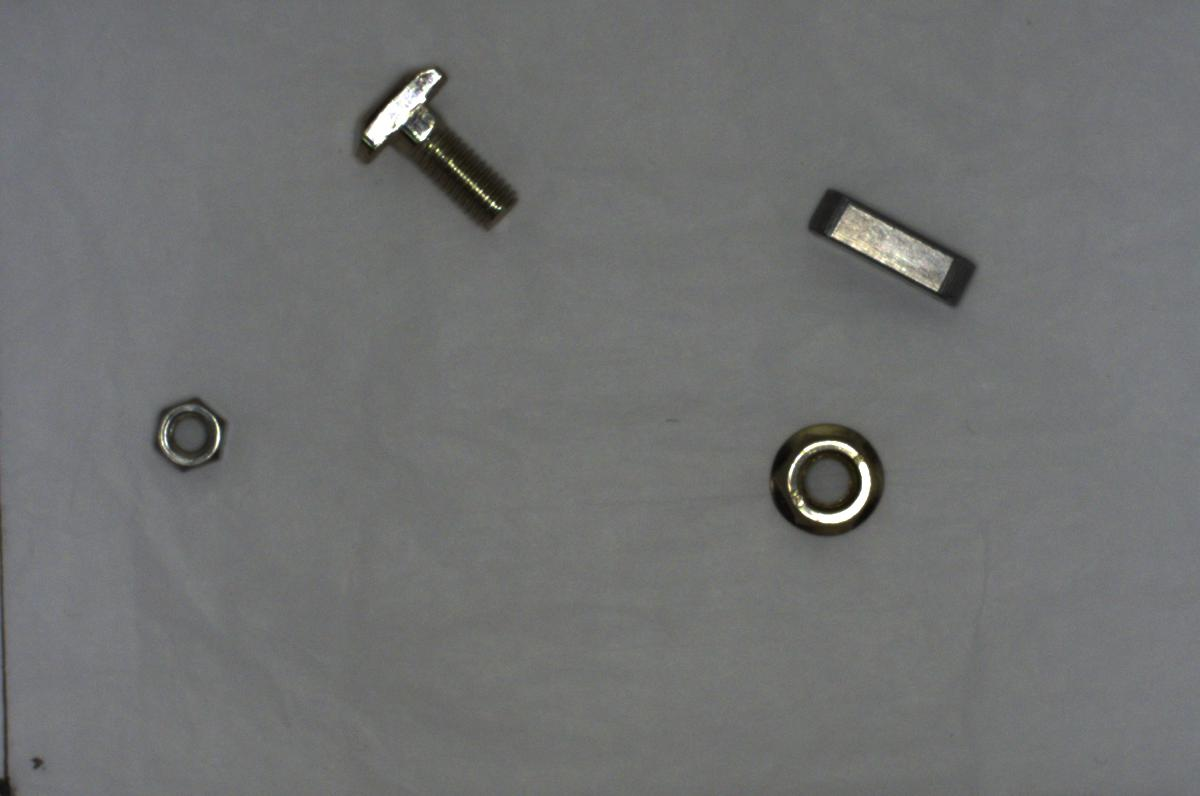Flange nut: (761, 412, 894, 541)
Hexagon nut: (142, 393, 233, 473)
Keybar: (800, 176, 980, 308)
T-shaped screw: (351, 56, 522, 227)
